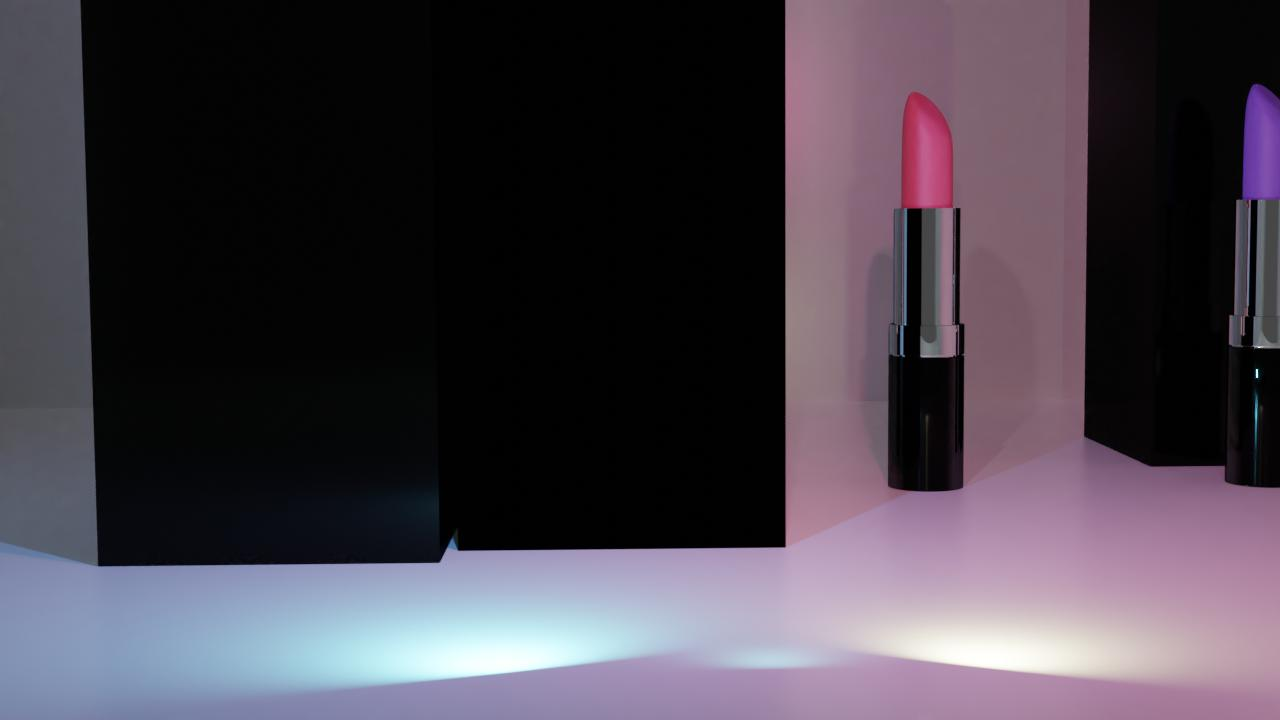CLASSIFIER_NAME: (886, 87, 966, 498), (1223, 79, 1280, 488)
